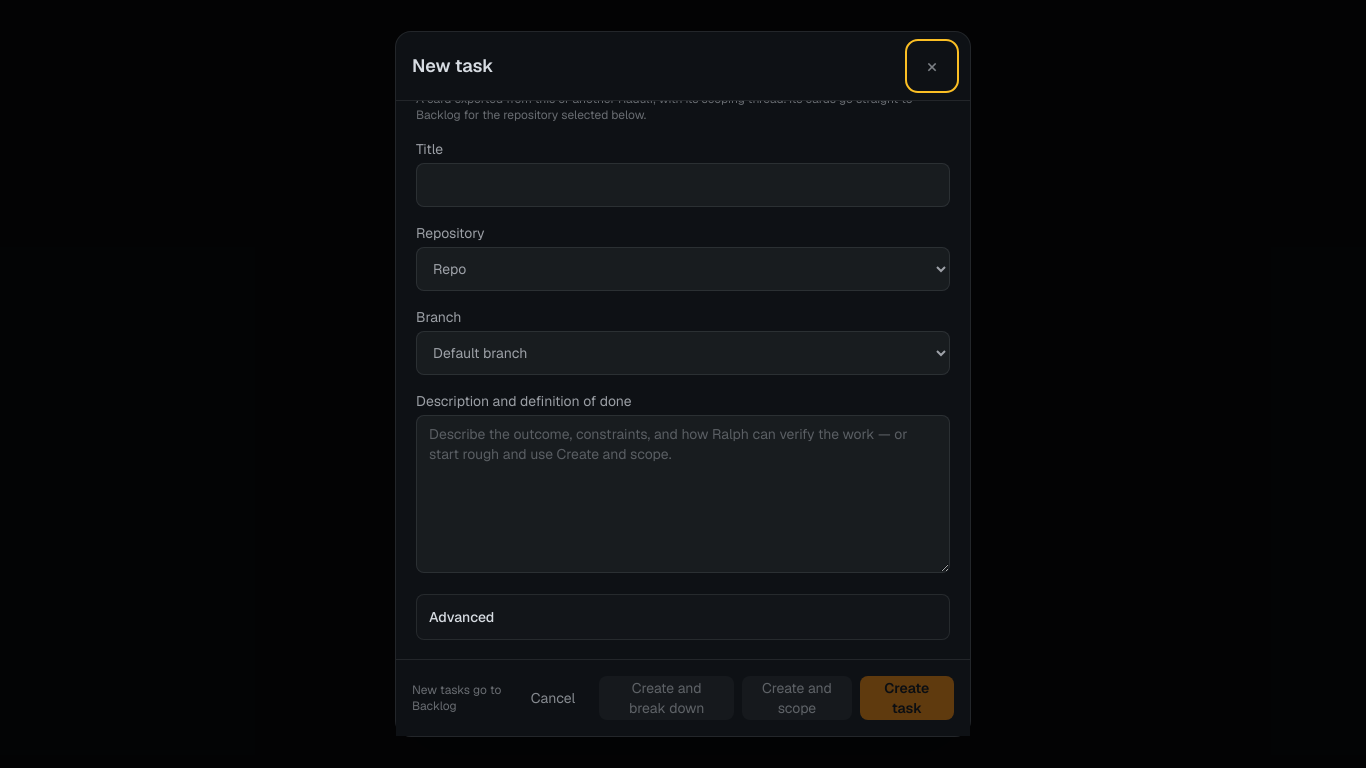
Test: NewTaskDialog › Open a pull request instead of merging › is disabled, naming the remote, when the repo has no origin
(page scrolled)
Step 1. Click the heading "Advanced" → (462, 617), box [429, 608, 494, 626]
(page scrolled)
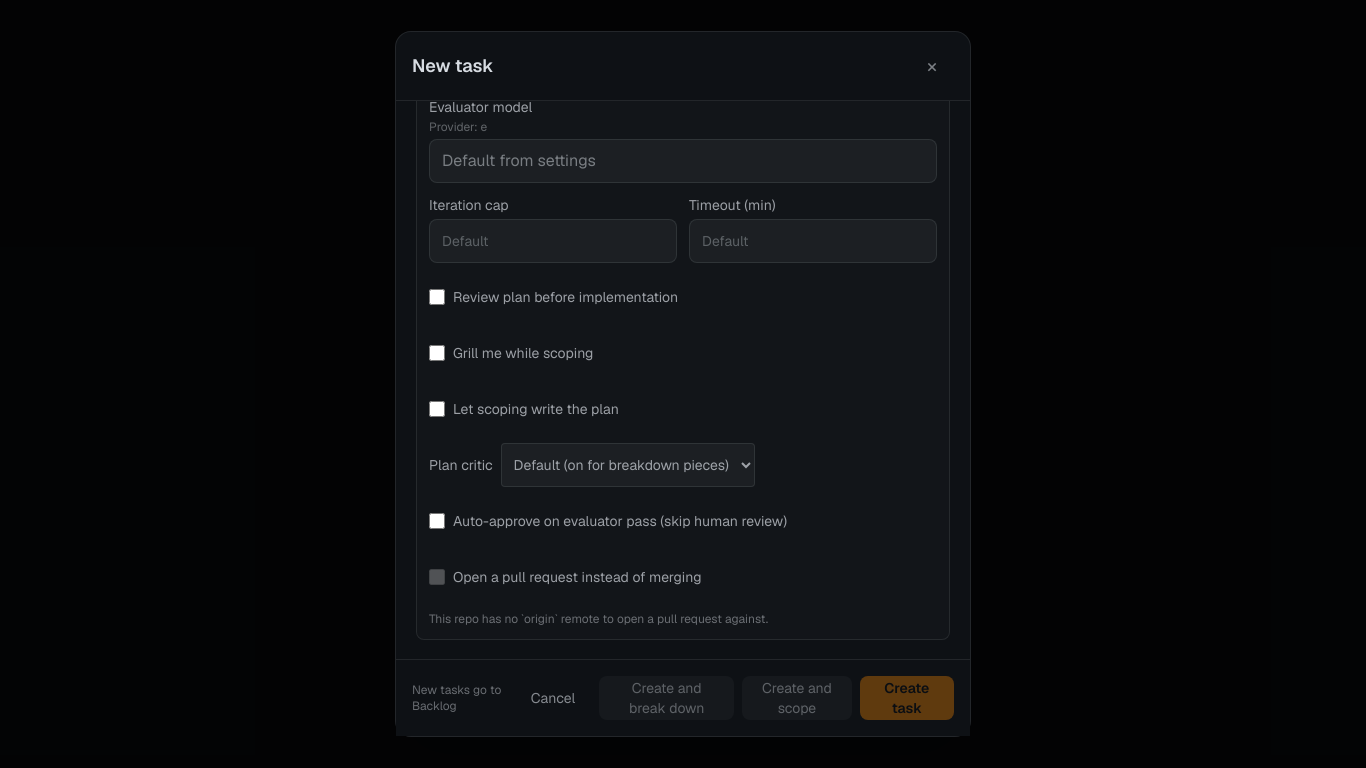
Check: the text "no `origin` remote" is shown, box [429, 611, 768, 627]
Check: the checkbox labelled "Open a pull request instead of merging" is disabled, box [429, 569, 445, 585]
